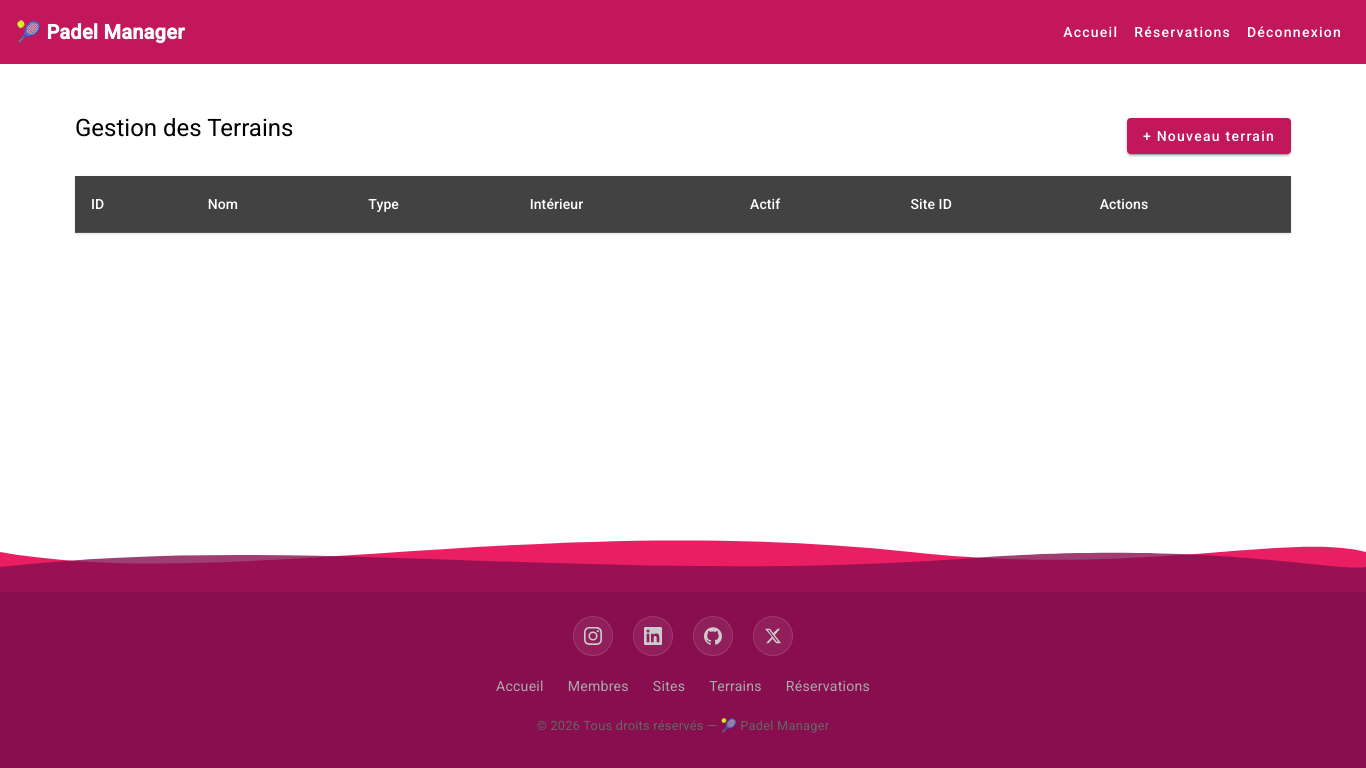
Gestion des Terrains › should open dialog when clicking nouveau terrain
Click the button "+ Nouveau terrain" at [1209, 136], box [1127,118,1291,154]
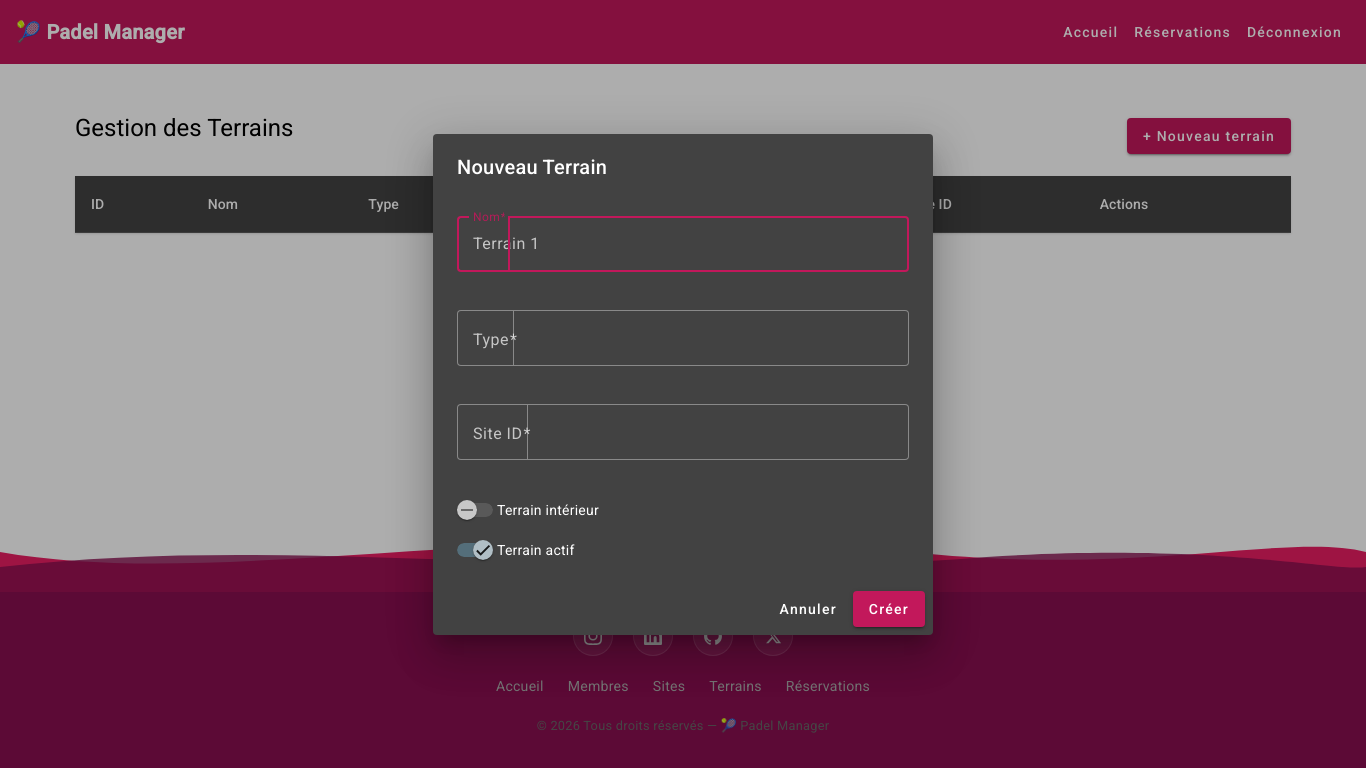
Expected: the heading "Nouveau Terrain" is shown, [457,154,607,178]
